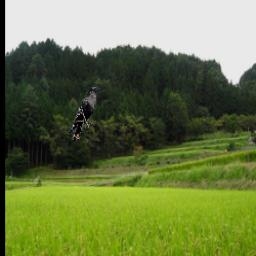Crow: (68, 86, 100, 141)
